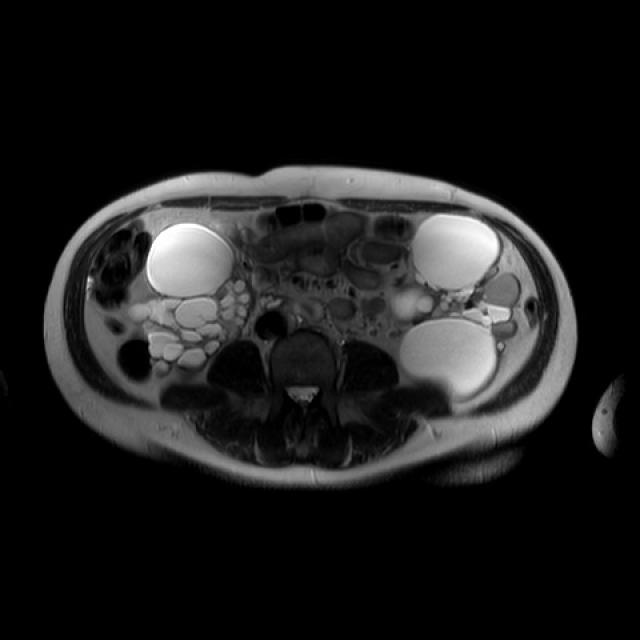sag: (130, 224, 255, 377)
sol: (395, 212, 522, 399)
